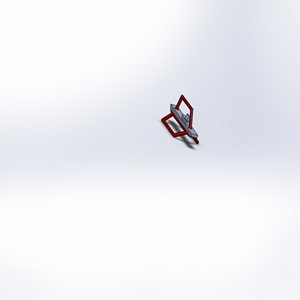submarine: (154, 90, 217, 168)
